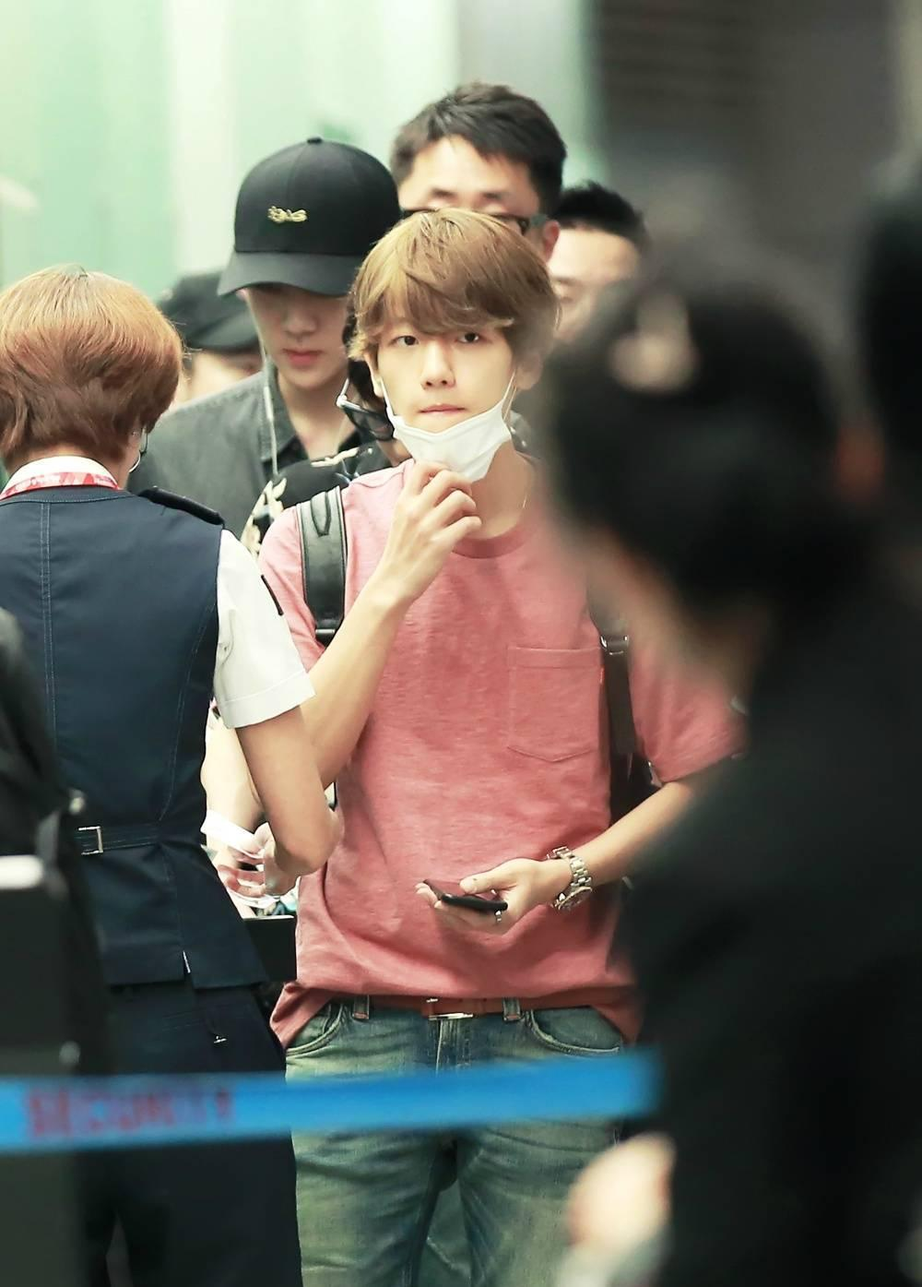NONE: (237, 260, 373, 390)
WRONG: (372, 288, 560, 475)
